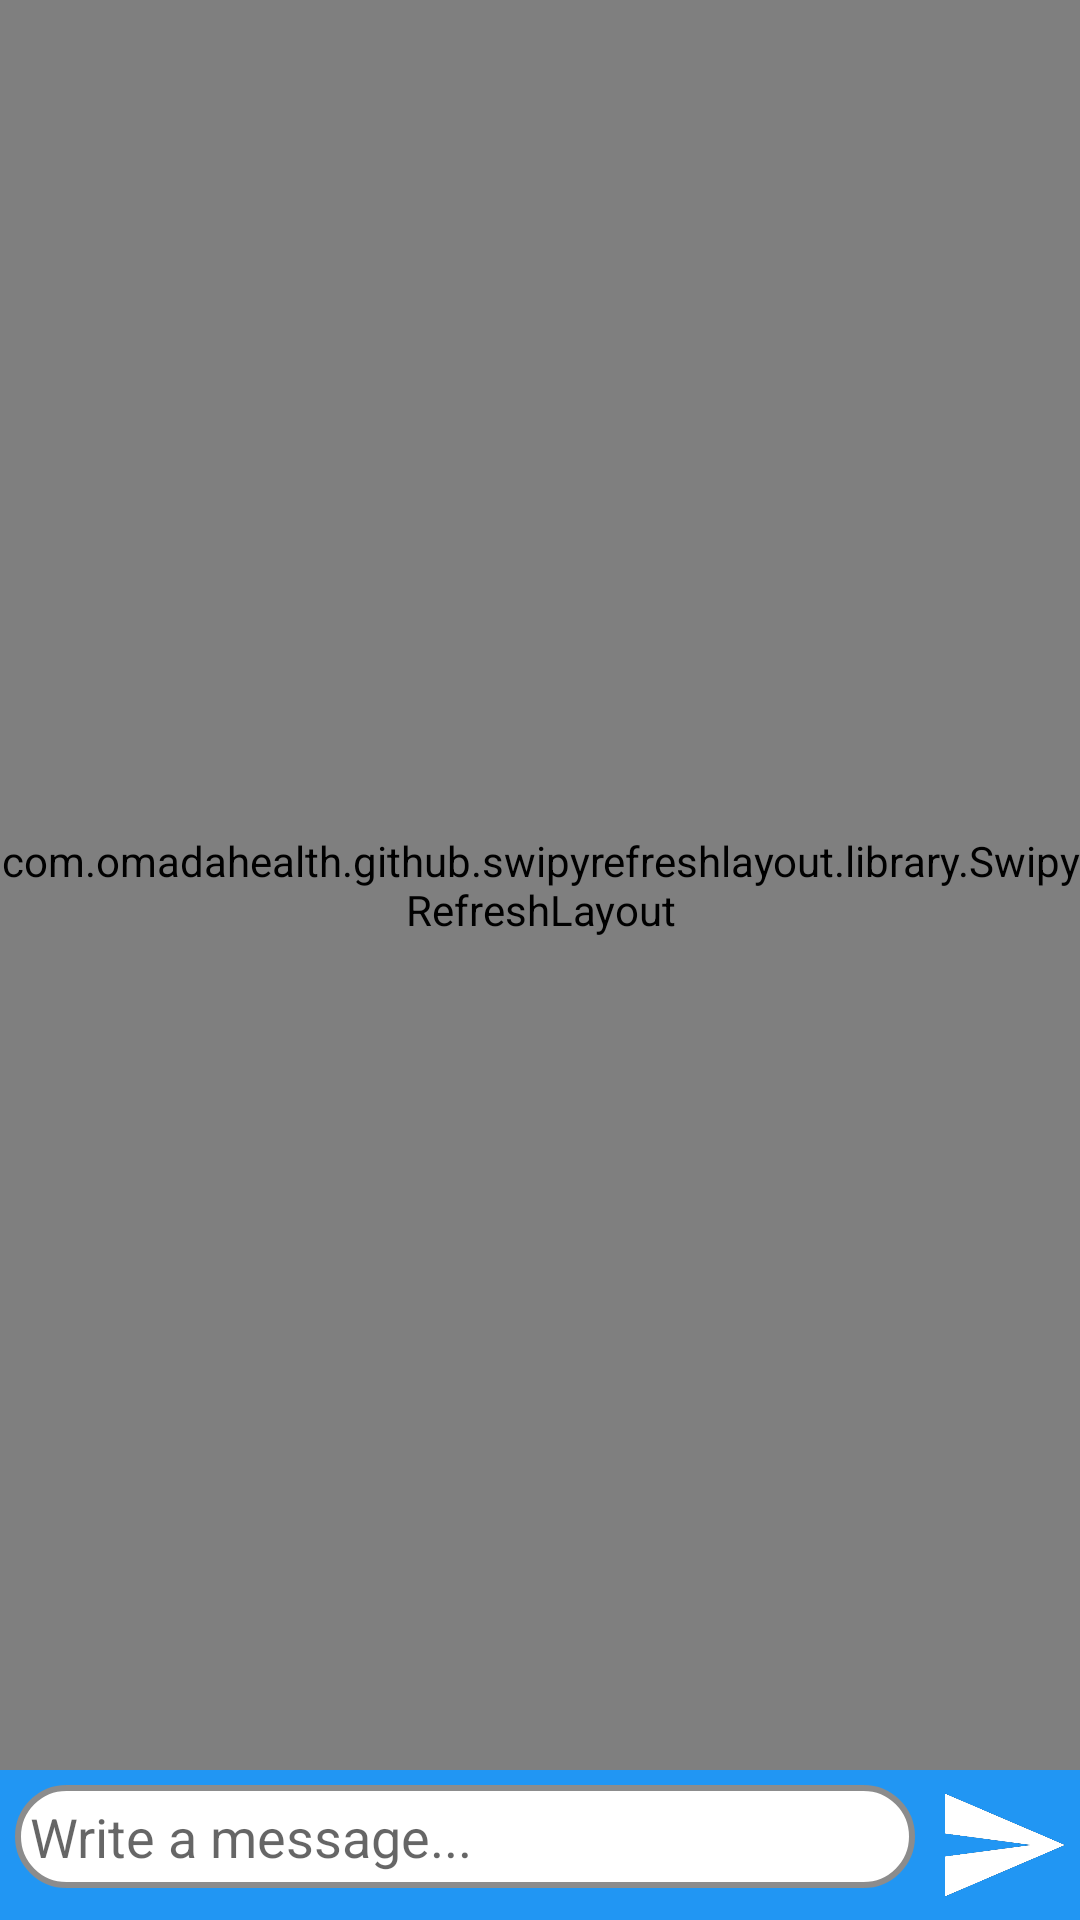

Icons on this 1080*1920 Android screen, each with the point to tap as point (x, y):
enviar: point (1004, 1845)
